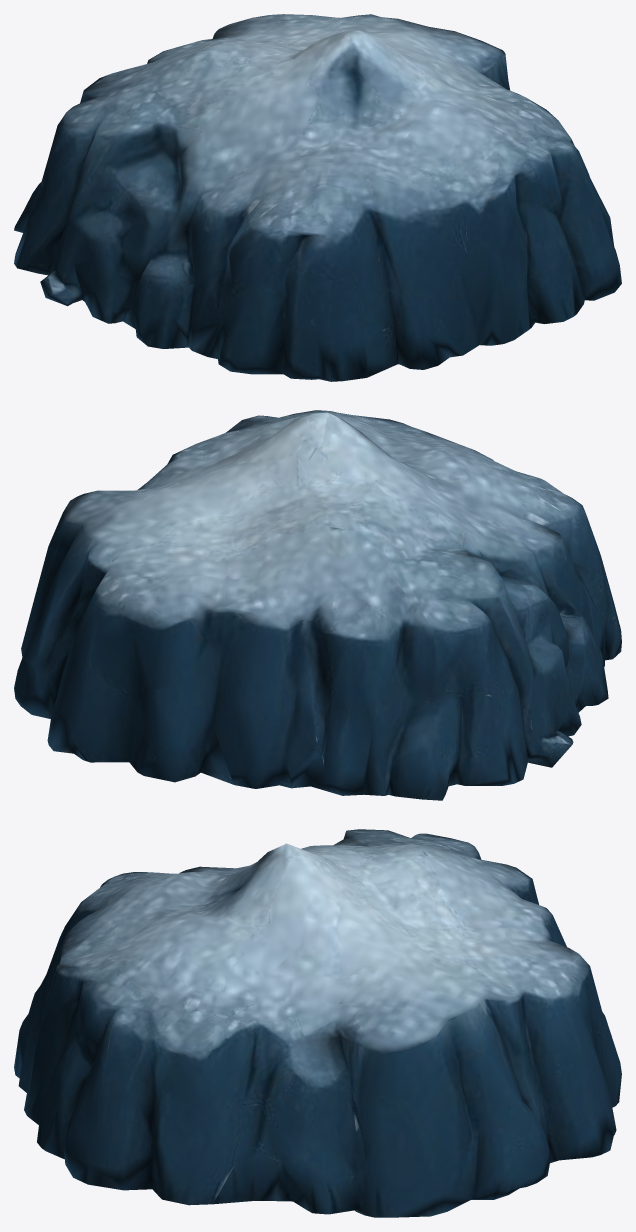
File: rock_a.glb
3 renders of one model, top to bottom at view 1: azimuth 30°, elevation 25°; view 2: azimuth 150°, elevation 25°; view 3: azimuth 270°, elevation 25°, orthographic. The views are drawn at different scales.
Size of the model in its own units: 1.89 by 0.8888 by 1.89.
1 material, 1 textured.
